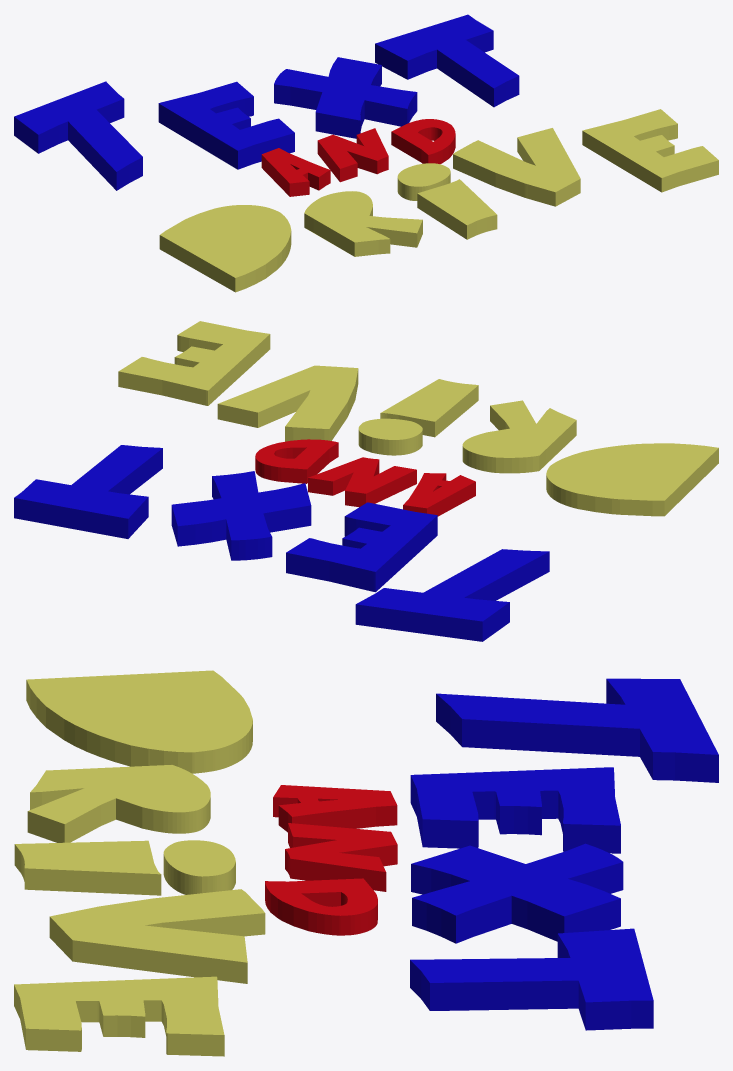
The model's file is texto.fbx.
The picture shows the model from 3 angles, top to bottom: view 1: azimuth 30°, elevation 25°; view 2: azimuth 150°, elevation 25°; view 3: azimuth 270°, elevation 25°; orthographic projection. The views are drawn at different scales.
Visible parts, largest first — view 1: Drive, Text, and; view 2: Drive, Text, and; view 3: Drive, Text, and.
Boxes of the visible parts, x1,y1,x2,y2 form: Drive: [159, 109, 718, 292]; Text: [14, 14, 519, 190]; and: [261, 119, 455, 196]; Drive: [118, 321, 718, 516]; Text: [14, 445, 549, 641]; and: [255, 439, 475, 516]; Drive: [14, 670, 265, 1056]; Text: [410, 678, 718, 1030]; and: [265, 785, 397, 935].
Size of the model in its own units: 3.34 by 0.12 by 2.73.
